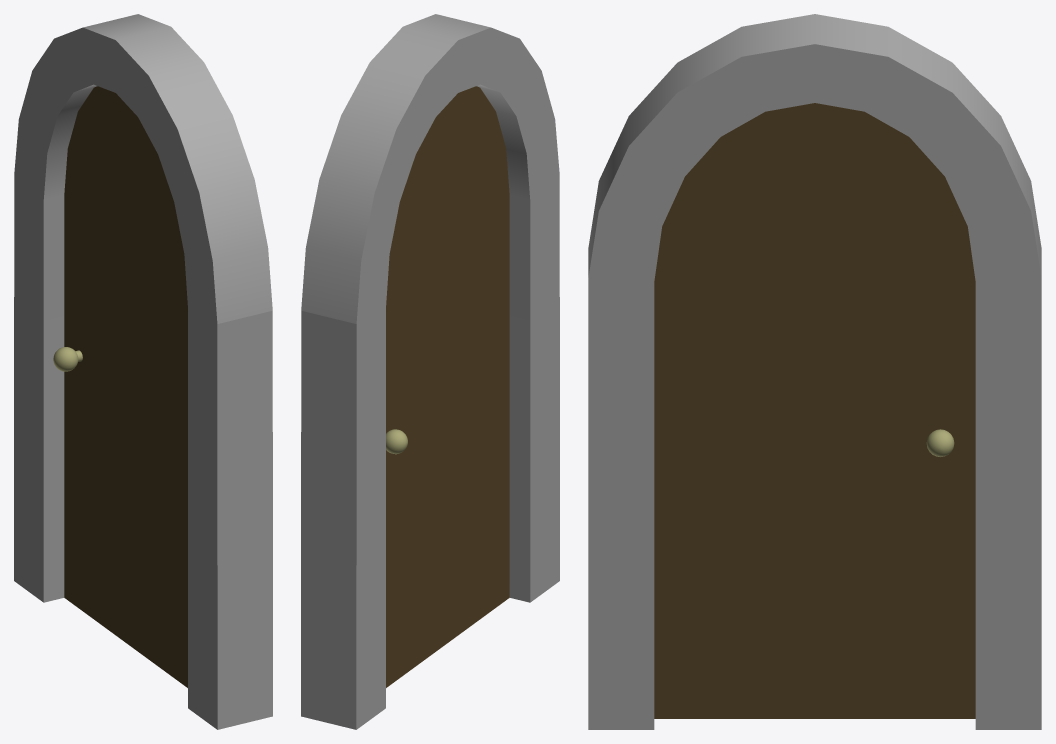
File: Door.fbx
3 renders of one model, left to right at view 1: azimuth 30°, elevation 25°; view 2: azimuth 150°, elevation 25°; view 3: azimuth 270°, elevation 25°, orthographic. The views are drawn at different scales.
Parts seen in each view (by area): view 1: pCylinder13, DoorKnob:pSphere8; view 2: pCylinder13, DoorKnob:pSphere8; view 3: pCylinder13.
Part boxes in pixels (left/top/right/bottom): pCylinder13: left=14, top=14, right=272, bottom=729; DoorKnob:pSphere8: left=53, top=347, right=82, bottom=371; pCylinder13: left=301, top=14, right=559, bottom=729; DoorKnob:pSphere8: left=386, top=429, right=407, bottom=454; pCylinder13: left=588, top=14, right=1041, bottom=729.
Size of the model in its own units: 1.33 by 12.43 by 7.45.
